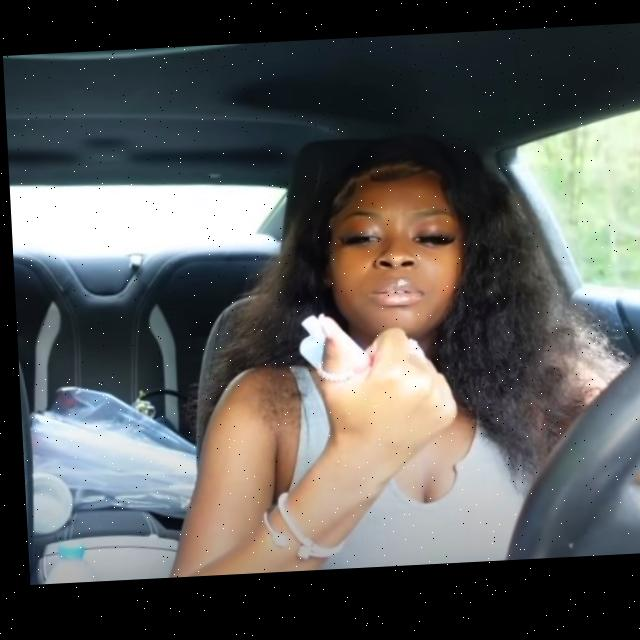vape: (294, 315, 369, 377)
